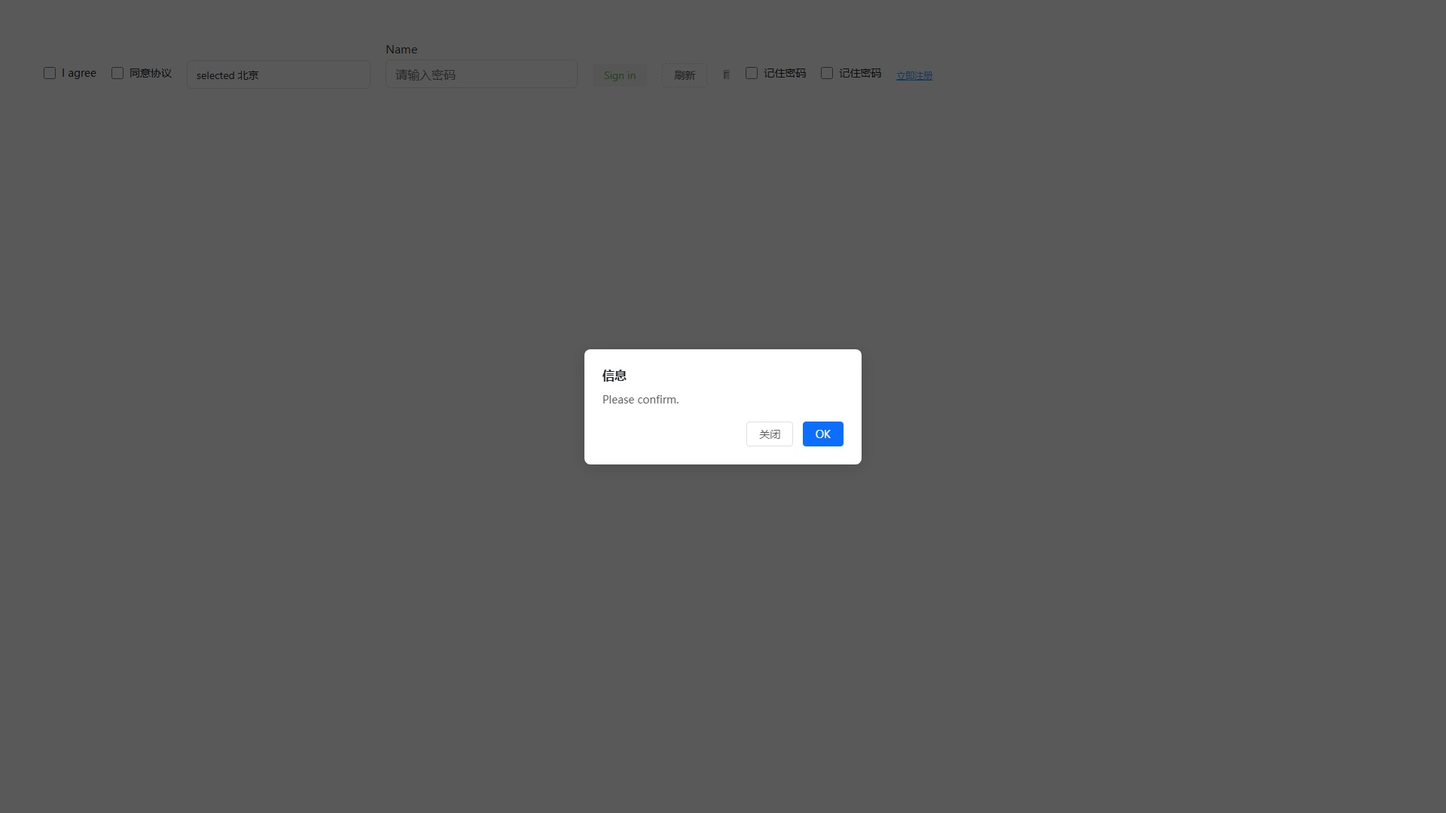button: (593, 64, 647, 86), (747, 421, 793, 446), (662, 63, 707, 87), (803, 421, 844, 446)
checkbox: (111, 67, 124, 79), (44, 67, 56, 79), (746, 67, 758, 79), (821, 67, 833, 79)
icon: (130, 65, 172, 80), (764, 65, 806, 80), (839, 65, 881, 80), (62, 65, 96, 80), (722, 68, 731, 80)
input: (386, 59, 578, 88)
link: (896, 69, 933, 81)
modal: (0, 0, 1446, 813)
radio: (111, 65, 172, 80), (746, 65, 806, 80), (821, 65, 881, 80), (44, 65, 96, 80)
select: (187, 60, 371, 89)
